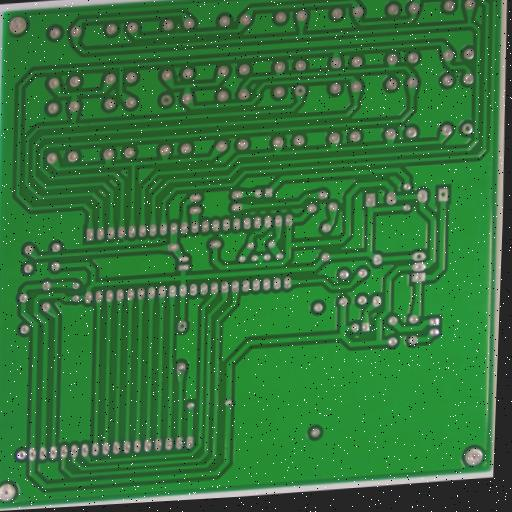missing_hole: (436, 185, 452, 204), (293, 83, 308, 98), (459, 121, 475, 135), (160, 92, 174, 107), (412, 249, 426, 263), (176, 320, 188, 334)
